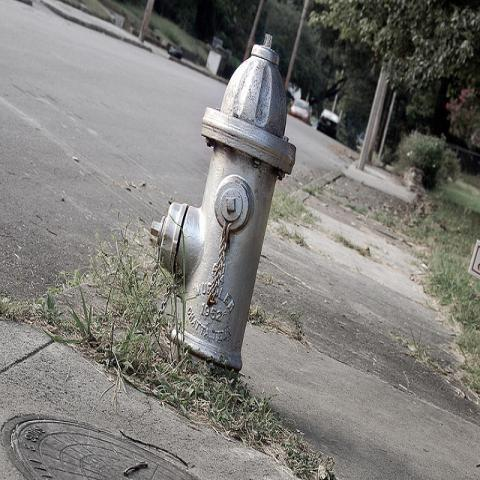car: (317, 108, 339, 140), (290, 98, 314, 121)
